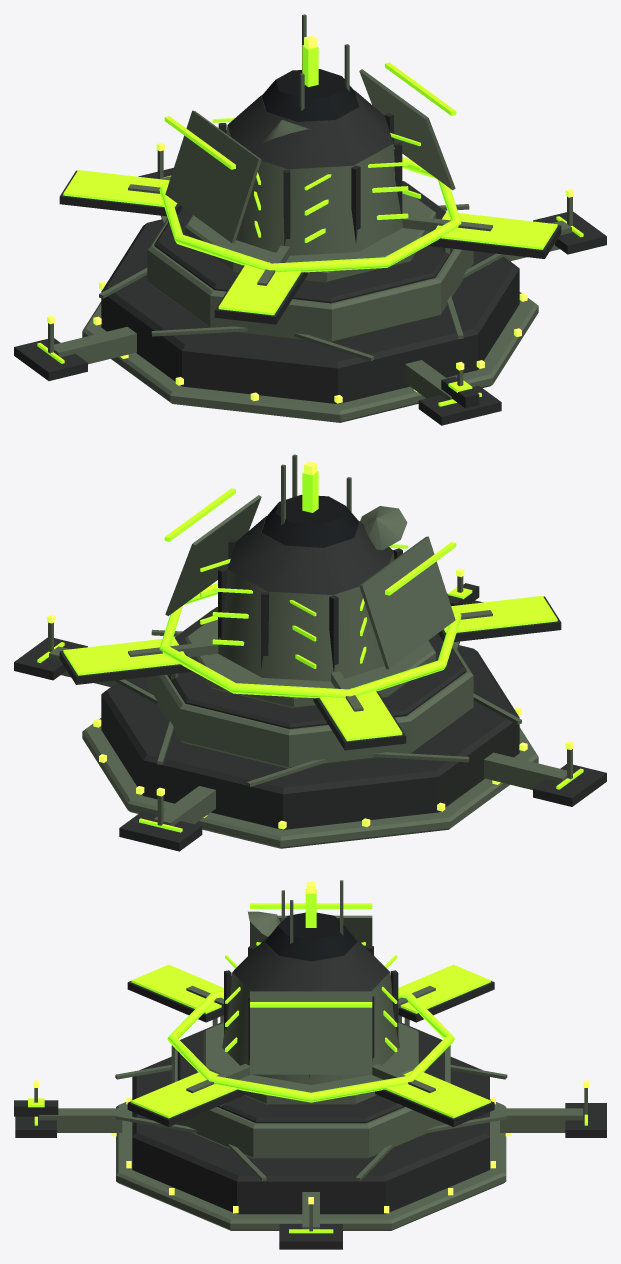
The model's file is Structure.glb.
3 renders of one model, top to bottom at view 1: azimuth 30°, elevation 25°; view 2: azimuth 150°, elevation 25°; view 3: azimuth 270°, elevation 25°, orthographic. The views are drawn at different scales.
Parts seen in each view (by area): view 1: structure_hull, structure, structure_core, structure_spine, structure_radiator (×2), structure_skirt, structure_cap, structure_deck2, structure_ring, structure_deck3, structure_control, structure_radiator_edge (×2) (+2 smaller); view 2: structure, structure_hull, structure_core, structure_spine, structure_radiator (×2), structure_skirt, structure_cap, structure_deck2, structure_ring, structure_deck3, structure_control, structure_dish (+2 smaller); view 3: structure, structure_hull, structure_radiator (×2), structure_spine, structure_skirt, structure_cap, structure_deck2, structure_ring, structure_deck3, structure_core, structure_control, structure_radiator_edge (×2) (+2 smaller).
Boxes of the visible parts, x1,y1,x2,y2 form: structure_hull: (101,219,519,403); structure: (14,113,606,425); structure_core: (226,125,402,255); structure_spine: (147,183,473,342); structure_radiator (×2): (165,69,455,243); structure_skirt: (82,292,538,422); structure_cap: (227,90,393,169); structure_deck2: (154,181,453,303); structure_ring: (159,157,461,272); structure_deck3: (185,193,435,282); structure_control: (262,69,359,121); structure_radiator_edge (×2): (164,62,456,169); structure: (14,539,606,851); structure_hull: (101,645,519,829); structure_core: (218,551,394,681); structure_spine: (147,609,473,768); structure_radiator (×2): (165,495,455,669); structure_skirt: (82,718,538,848); structure_cap: (227,516,393,594); structure_deck2: (167,607,466,729); structure_ring: (159,583,461,698); structure_deck3: (185,619,435,708); structure_control: (262,494,359,547); structure_dish: (360,506,407,550); structure: (15,942,606,1249); structure_hull: (132,1056,489,1214); structure_radiator (×2): (250,915,372,1074); structure_spine: (171,1045,450,1159); structure_skirt: (116,1099,506,1230); structure_cap: (232,934,389,991); structure_deck2: (177,1023,444,1123); structure_ring: (167,990,454,1102); structure_deck3: (203,1022,418,1104); structure_core: (222,972,399,1084); structure_control: (265,912,357,961); structure_radiator_edge (×2): (250,903,372,1007).
Size of the model in its own units: 502 by 256 by 504.
